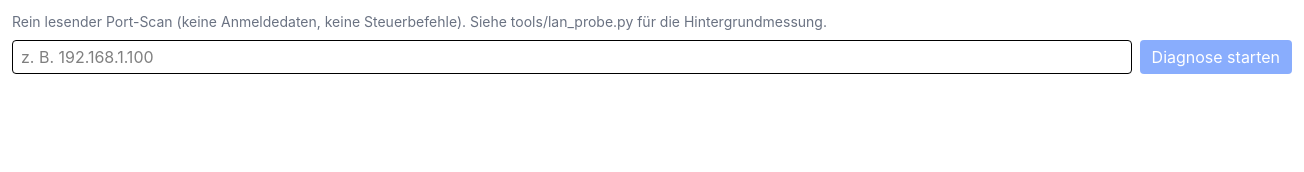
Test: NetworkDiagnostics › shows port results after a successful run
Type "192.168.1.100" into the field named "Host oder IP" at (572, 57), box [12,40,1132,74]
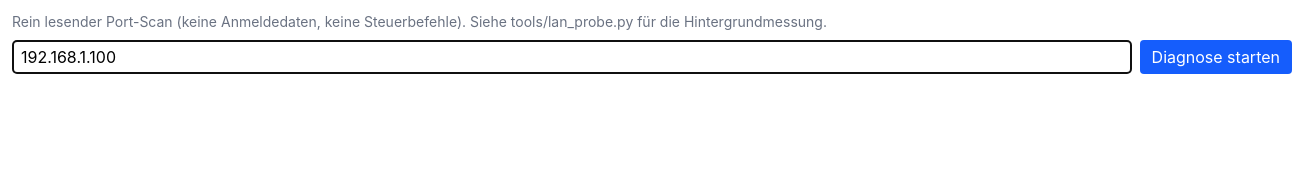
Click the button "Diagnose starten" at (1216, 57), box [1140,40,1292,74]
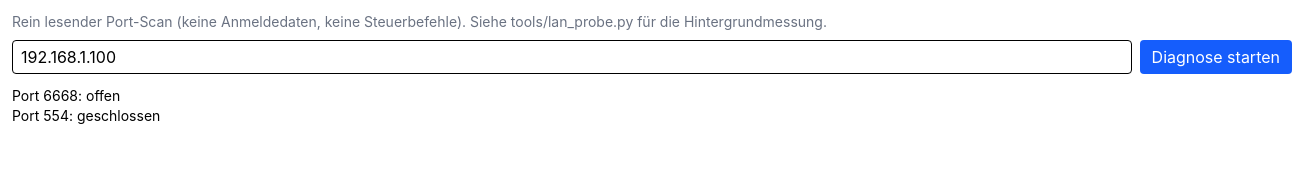
Check: the list item "Port 6668: offen" is shown, box [12,87,120,104]
Check: the list item "Port 554: geschlossen" is shown, box [12,107,160,124]
